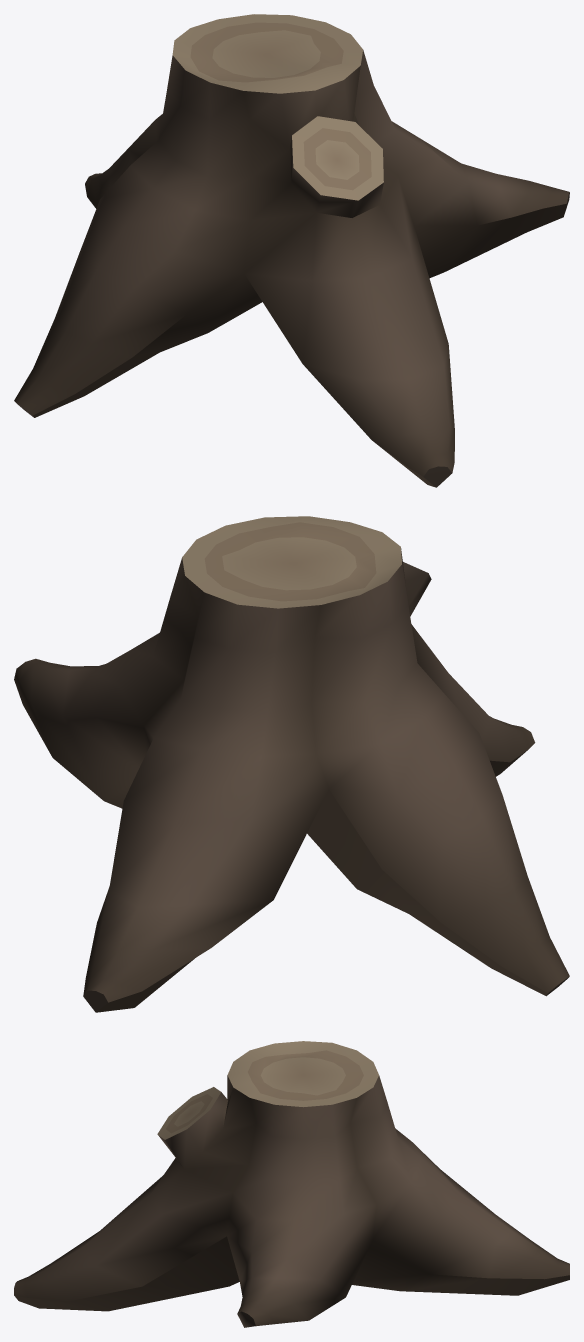
File: trees-dead-trees-wood-tree-stump_v5.glb
The picture shows the model from 3 angles, top to bottom: view 1: azimuth 30°, elevation 25°; view 2: azimuth 150°, elevation 25°; view 3: azimuth 270°, elevation 25°; orthographic projection. The views are drawn at different scales.
Parts seen in each view (by area): view 1: Tree Stump_v5; view 2: Tree Stump_v5; view 3: Tree Stump_v5.
Part boxes in pixels (<box>): Tree Stump_v5: <box>14,14,569,487</box>; Tree Stump_v5: <box>14,516,569,1012</box>; Tree Stump_v5: <box>14,1041,569,1327</box>.
Size of the model in its own units: 0.6651 by 0.394 by 0.8.
